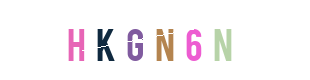6: (125, 0, 205, 80)
G: (93, 0, 173, 80)
H: (64, 0, 144, 80)
K: (92, 0, 172, 80)
N: (115, 0, 195, 80), (148, 0, 228, 80)
